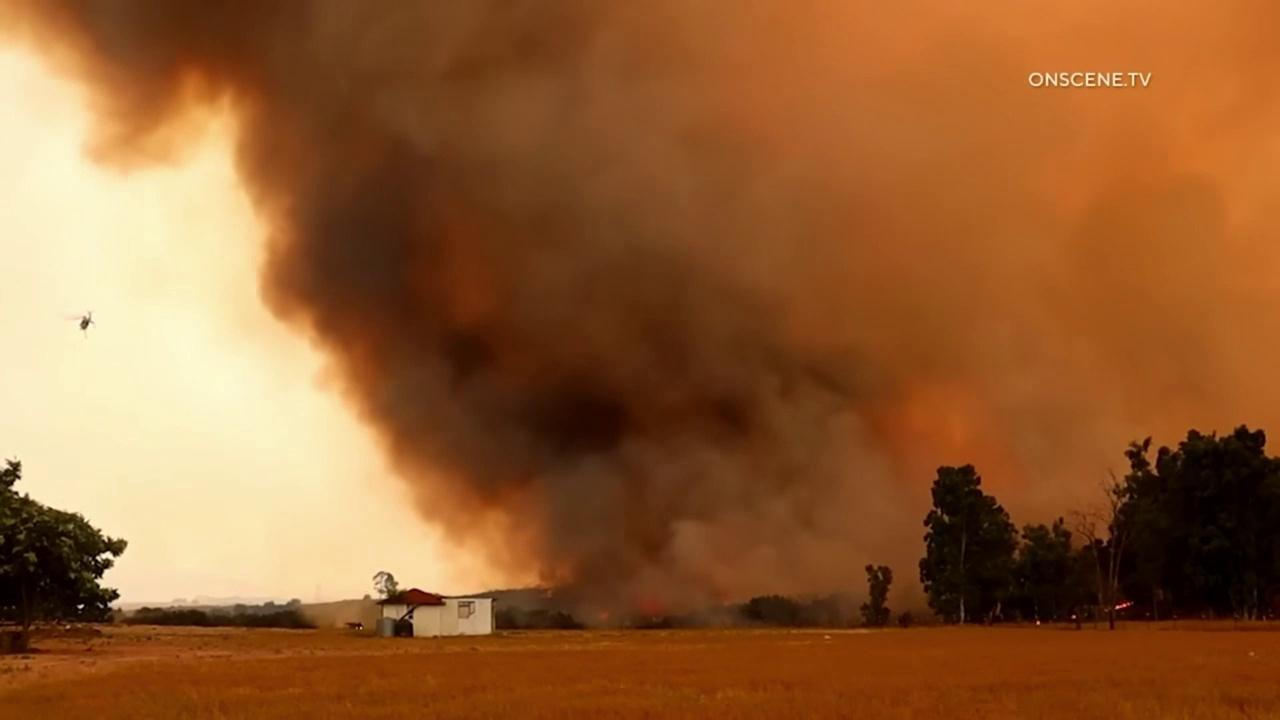fire: (1115, 600, 1134, 610), (1071, 614, 1077, 619), (1036, 620, 1041, 626)
smoke: (0, 0, 1280, 635), (296, 598, 380, 632)
